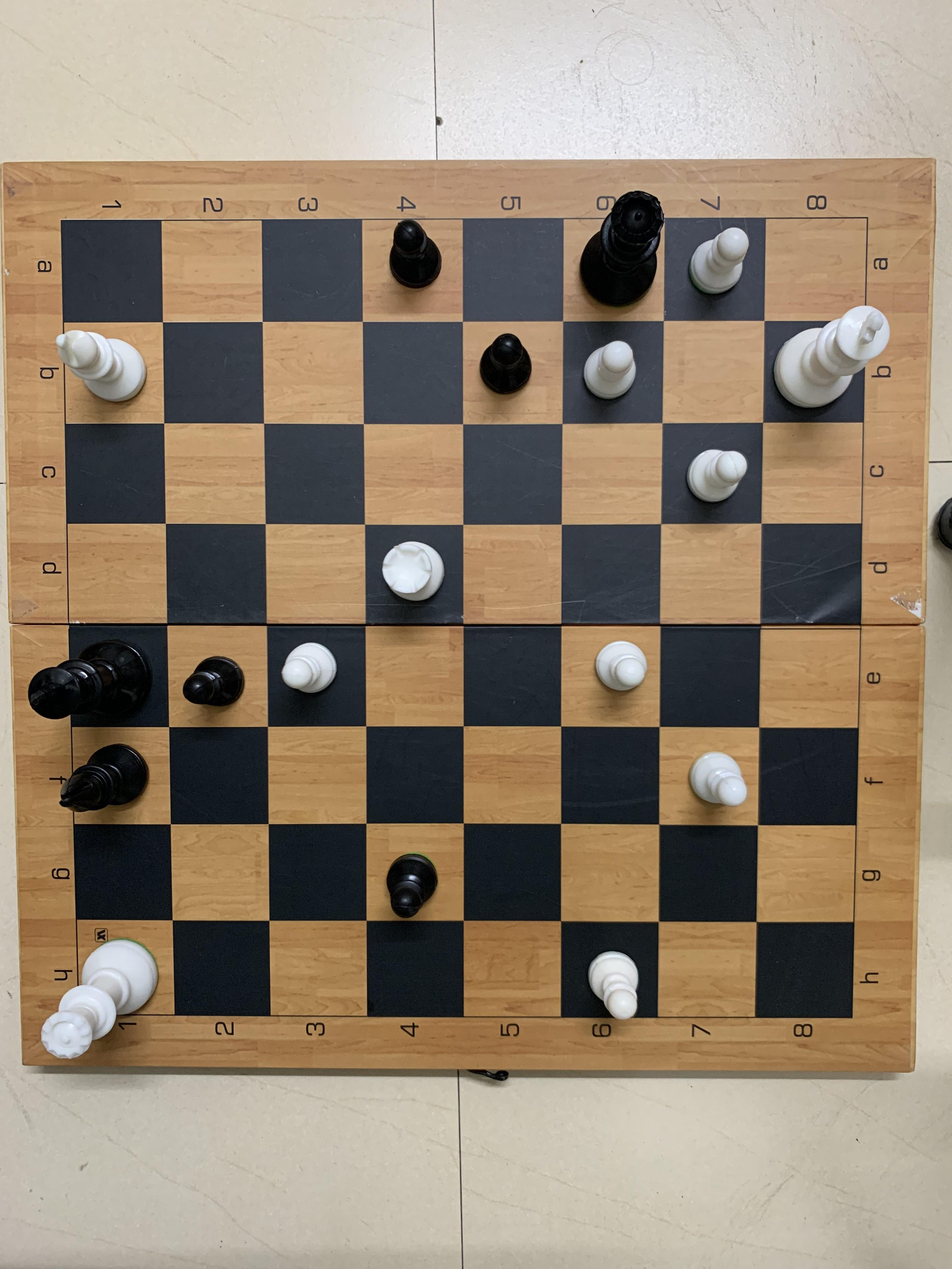black_bishop: (47, 726, 157, 825)
black_king: (28, 617, 166, 732)
black_pawn: (365, 826, 470, 924), (367, 205, 459, 308), (472, 326, 558, 419), (173, 638, 261, 723)
white_bishop: (35, 318, 163, 420)
white_king: (762, 293, 898, 419)
white_pawn: (667, 430, 759, 521), (571, 940, 655, 1031), (271, 625, 354, 717), (570, 625, 655, 713), (682, 222, 761, 309), (575, 323, 650, 414), (677, 738, 757, 822)
white_queen: (31, 913, 179, 1065)
white_rook: (371, 531, 451, 616)
